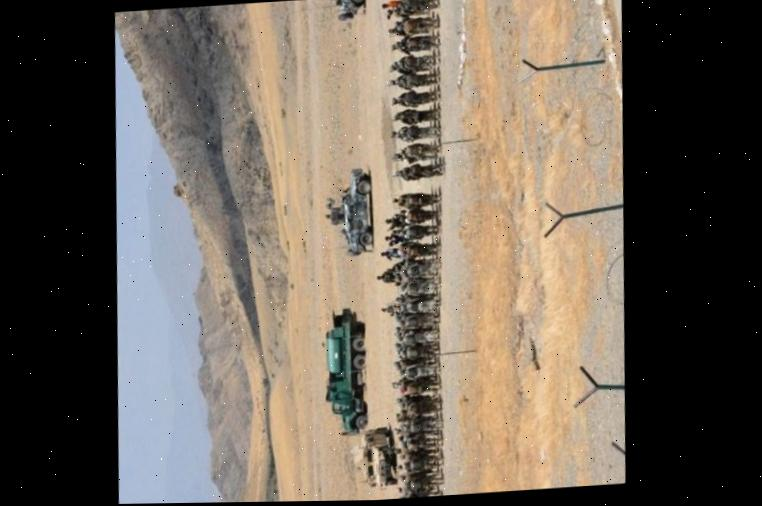armored_car: (320, 164, 377, 256), (354, 423, 402, 493), (316, 0, 367, 21)
truck: (318, 304, 373, 434)
